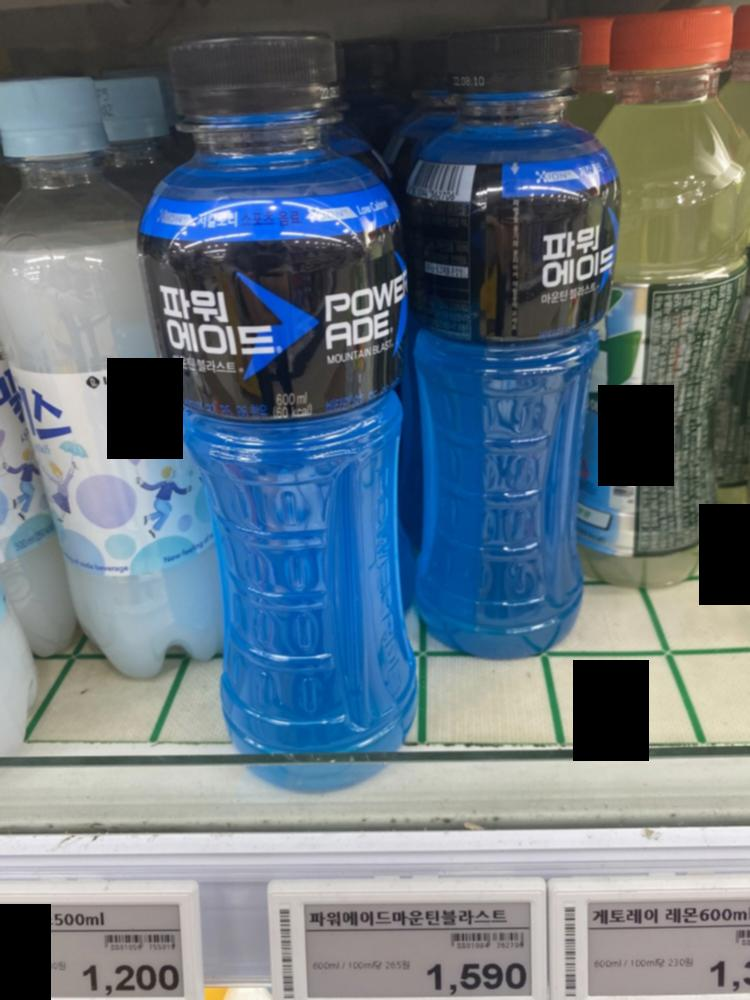powerade_mountainblast: (136, 30, 423, 796), (401, 28, 611, 671)
